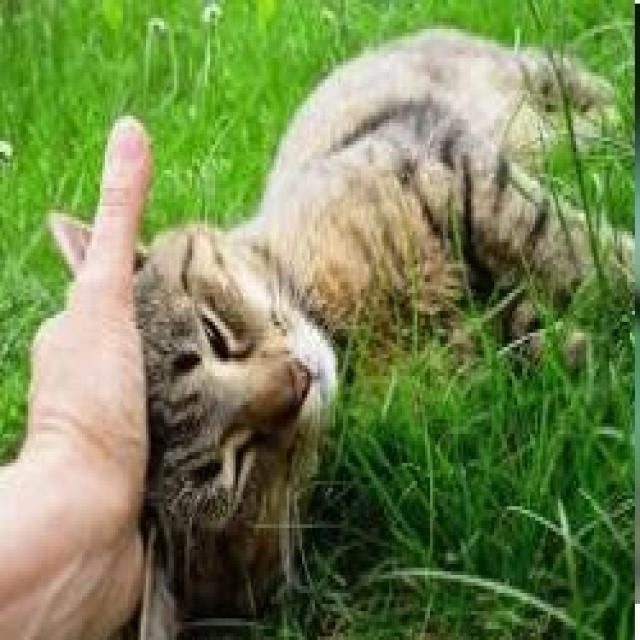Gato: (41, 21, 640, 640)
